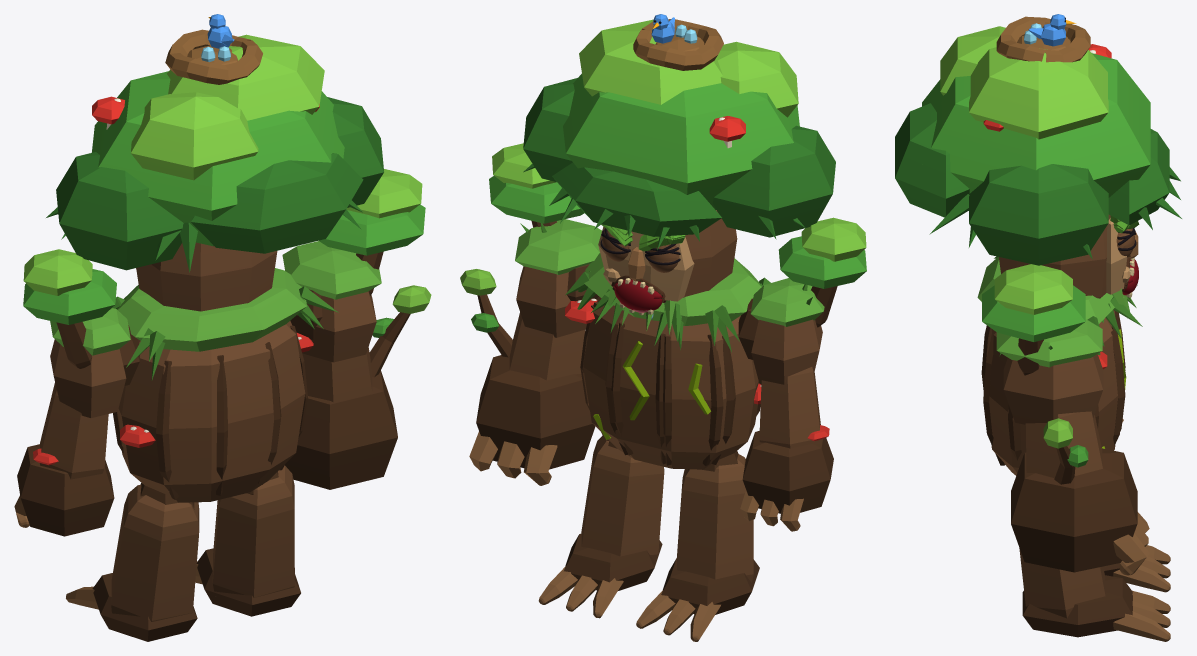
File: keeper_timber_golem.fbx
The picture shows the model from 3 angles, left to right: view 1: azimuth 30°, elevation 25°; view 2: azimuth 150°, elevation 25°; view 3: azimuth 270°, elevation 25°; orthographic projection. The views are drawn at different scales.
Visible parts, largest first — view 1: Head_Canopy, Body, LeftArm_Fist, RightLeg, LeftLeg, RightArm_Fist, LeftArm_Upper, Head_Stump, RightArm_Tier, RightArm_Upper, LeftArm_Tier; view 2: Head_Canopy, Body, LeftArm_Fist, RightLeg, LeftLeg, RightArm_Fist, LeftArm_Upper, RightArm_Upper, Head_Stump, RightArm_Tier, LeftArm_Tier, Head_Face_Attack (+3 smaller); view 3: Head_Canopy, LeftArm_Fist, LeftLeg, Body, LeftArm_Upper, LeftArm_Tier, Head_Stump, RightLeg.
Part boxes in pixels (left/top/right/bottom): Head_Canopy: left=46, top=14, right=383, bottom=272; Body: left=112, top=268, right=338, bottom=502; LeftArm_Fist: left=285, top=285, right=431, bottom=489; RightLeg: left=66, top=483, right=199, bottom=641; LeftLeg: left=195, top=465, right=300, bottom=616; RightArm_Fist: left=14, top=382, right=114, bottom=536; LeftArm_Upper: left=282, top=241, right=381, bottom=362; Head_Stump: left=136, top=242, right=277, bottom=311; RightArm_Tier: left=23, top=249, right=116, bottom=368; RightArm_Upper: left=50, top=308, right=139, bottom=417; LeftArm_Tier: left=319, top=169, right=425, bottom=295; Head_Canopy: left=523, top=14, right=835, bottom=250; Body: left=565, top=253, right=770, bottom=469; LeftArm_Fist: left=460, top=269, right=595, bottom=485; RightLeg: left=636, top=451, right=759, bottom=641; LeftLeg: left=538, top=435, right=664, bottom=618; RightArm_Fist: left=740, top=367, right=833, bottom=531; LeftArm_Upper: left=515, top=219, right=601, bottom=337; RightArm_Upper: left=738, top=278, right=824, bottom=384; Head_Stump: left=598, top=210, right=737, bottom=334; RightArm_Tier: left=778, top=217, right=866, bottom=327; LeftArm_Tier: left=489, top=143, right=584, bottom=227; Head_Face_Attack: left=611, top=226, right=665, bottom=315; Head_Canopy: left=895, top=14, right=1181, bottom=265; LeftArm_Fist: left=1011, top=411, right=1149, bottom=575; LeftLeg: left=1019, top=548, right=1170, bottom=641; Body: left=977, top=256, right=1142, bottom=475; LeftArm_Upper: left=996, top=319, right=1103, bottom=424; LeftArm_Tier: left=982, top=264, right=1085, bottom=375; Head_Stump: left=999, top=214, right=1138, bottom=322; RightLeg: left=1103, top=545, right=1170, bottom=592.
Size of the model in its own units: 1947 by 2700 by 1178.
3 materials, 1 textured.
